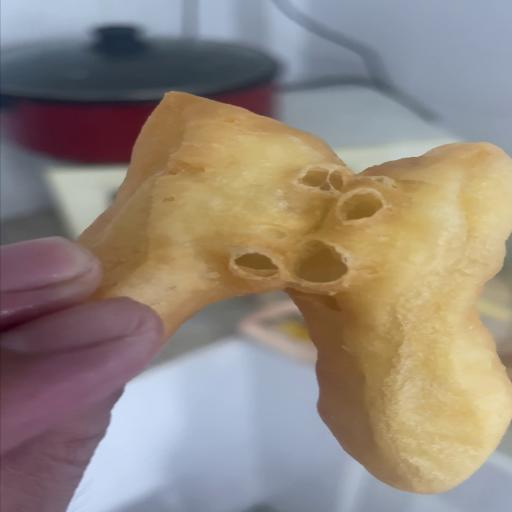street_golden_defect: (79, 92, 512, 493)
